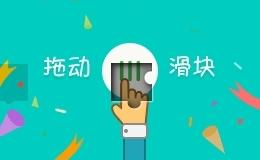target: (90, 46, 132, 82)
